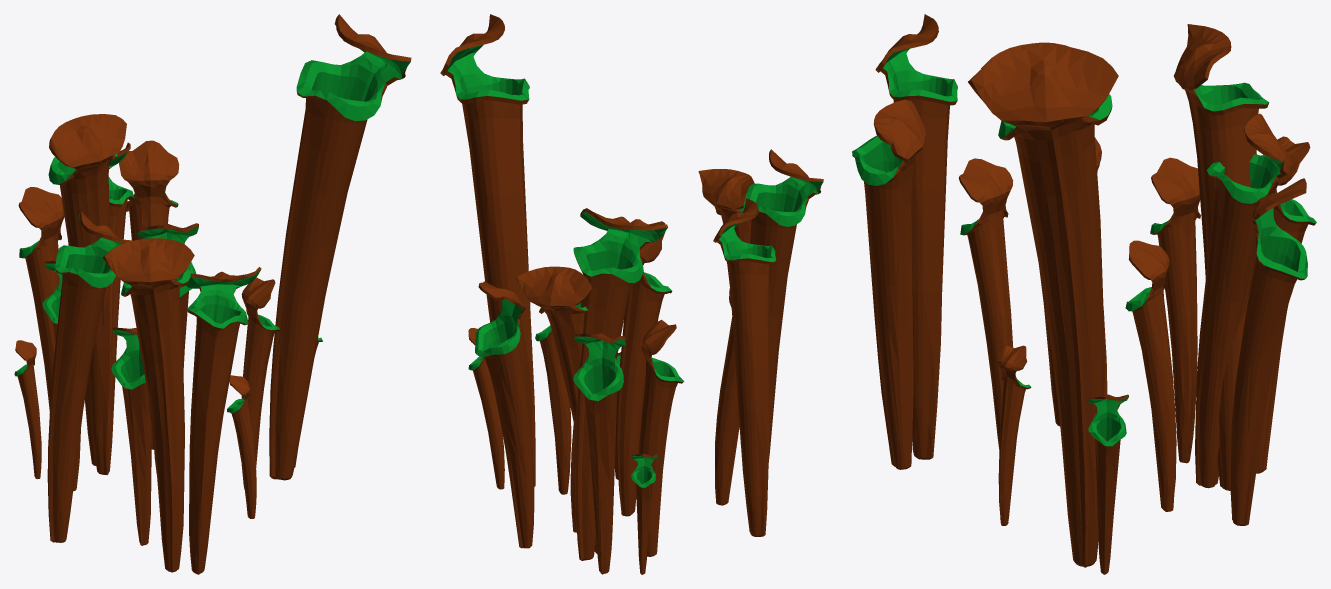
The model's file is ShrubTrumpet05.fbx.
3 views of the same model, side by side, from view 1: azimuth 30°, elevation 25°; view 2: azimuth 150°, elevation 25°; view 3: azimuth 270°, elevation 25° (orthographic). The views are drawn at different scales.
Visible parts, largest first — view 1: ShrubTrumpet05; view 2: ShrubTrumpet05; view 3: ShrubTrumpet05.
Boxes of the visible parts, x1,y1,x2,y2 form: ShrubTrumpet05: [14, 14, 411, 574]; ShrubTrumpet05: [440, 14, 823, 574]; ShrubTrumpet05: [852, 14, 1316, 574].
Bounding box in the file's own units: 79.01 × 99.8 × 77.
